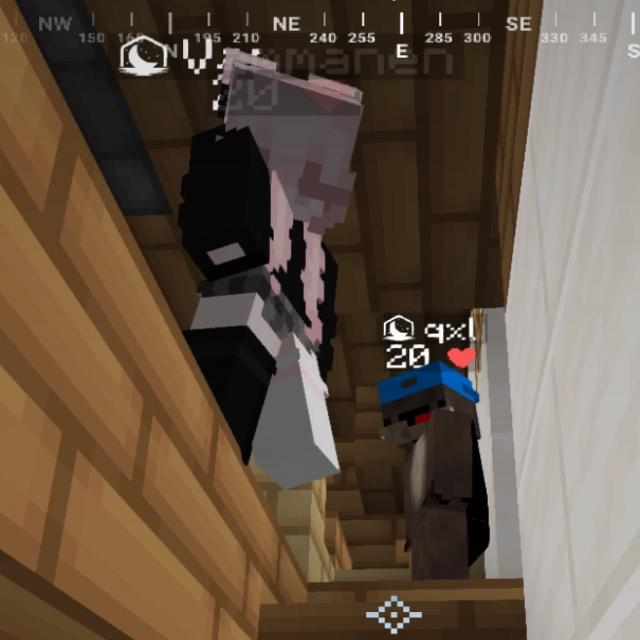Player: (187, 61, 342, 490), (375, 359, 486, 581)
